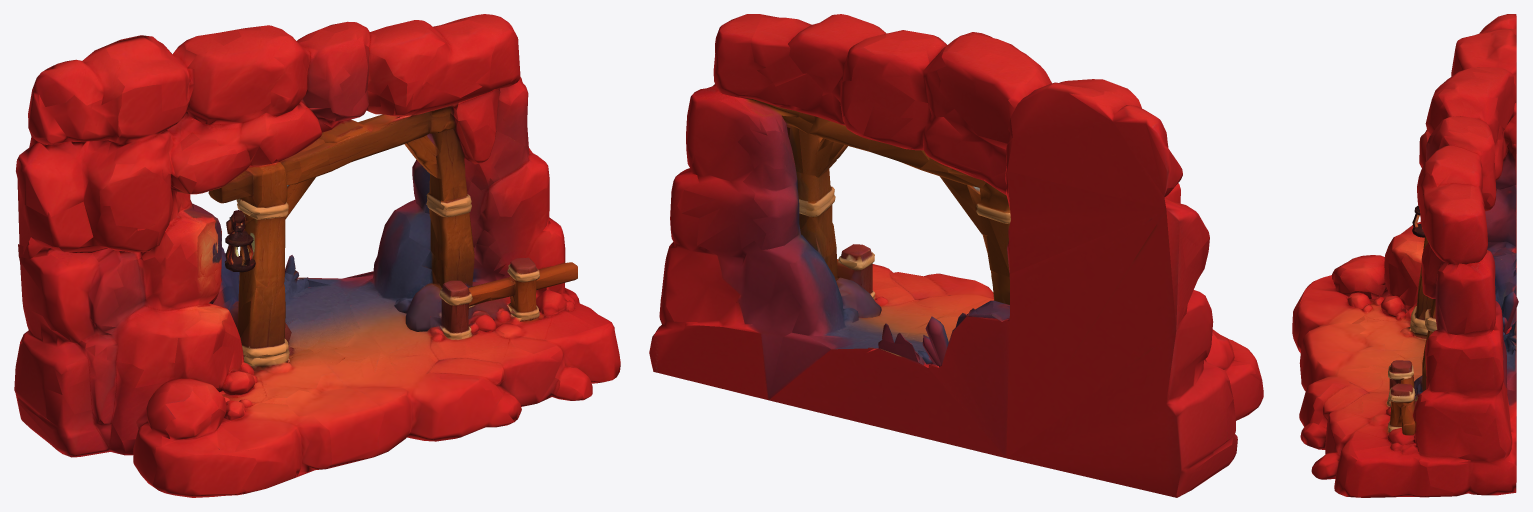
File: canyon-cave-gate.glb
3 renders of one model, left to right at view 1: azimuth 30°, elevation 25°; view 2: azimuth 150°, elevation 25°; view 3: azimuth 270°, elevation 25°, orthographic. The views are drawn at different scales.
Parts seen in each view (by area): view 1: canyon-cave-gate; view 2: canyon-cave-gate; view 3: canyon-cave-gate.
Part boxes in pixels (box(x1,y1,x2,y2)): canyon-cave-gate: box(14, 14, 620, 497); canyon-cave-gate: box(649, 14, 1263, 497); canyon-cave-gate: box(1292, 14, 1518, 497).
Size of the model in its own units: 1.9 by 1.26 by 0.862.
Materials: 1 (1 with a texture image).
